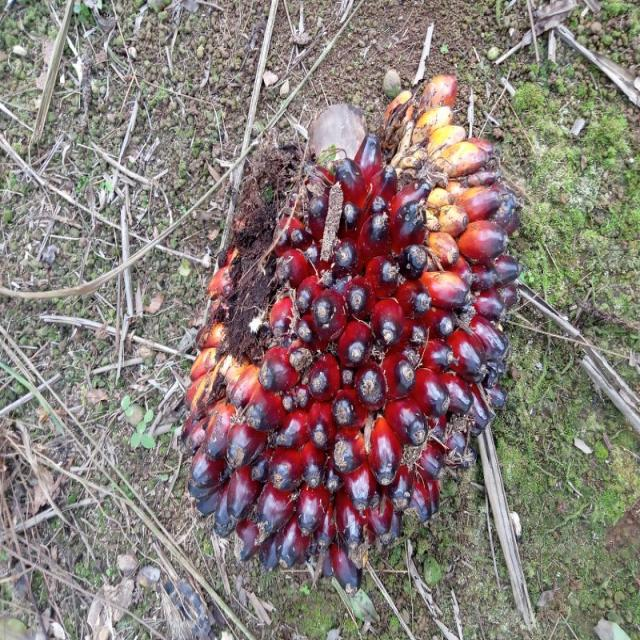fraksi 1: (118, 17, 563, 616)
